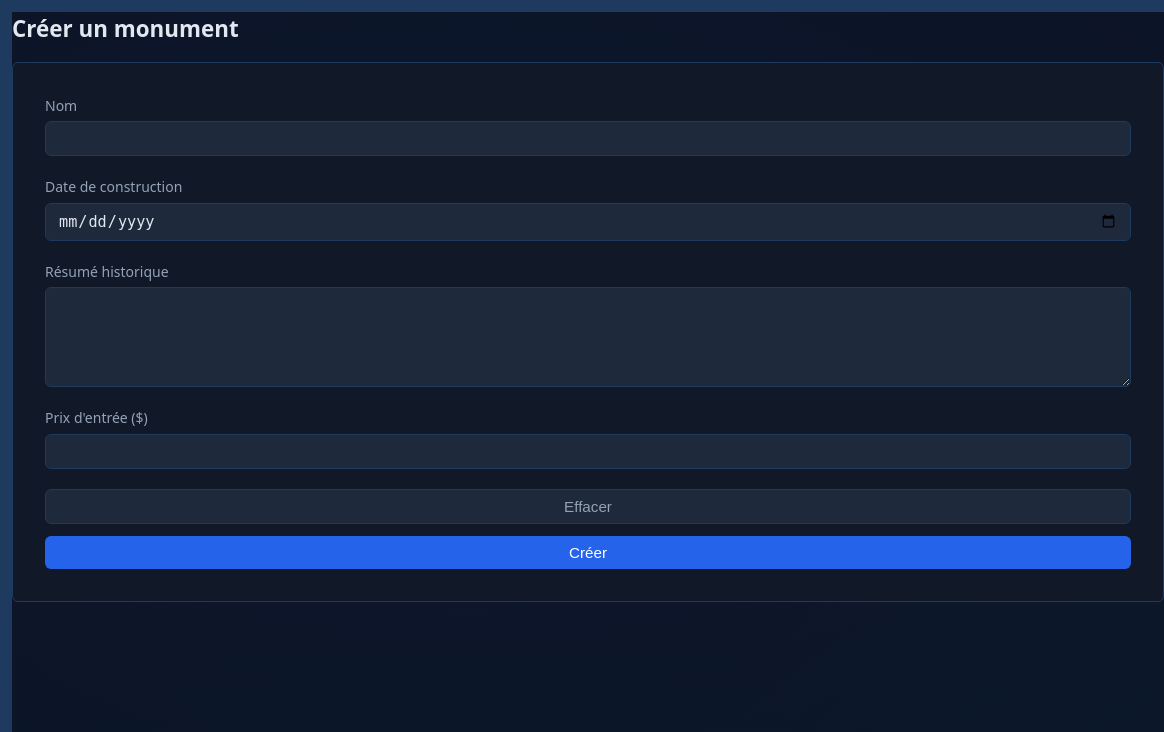
Test: FormulaireMonument › remet le formulaire a zero quand on clique sur Effacer
In the field labelled "Nom": (588, 139) [45,121,1131,156], type "Colisee"
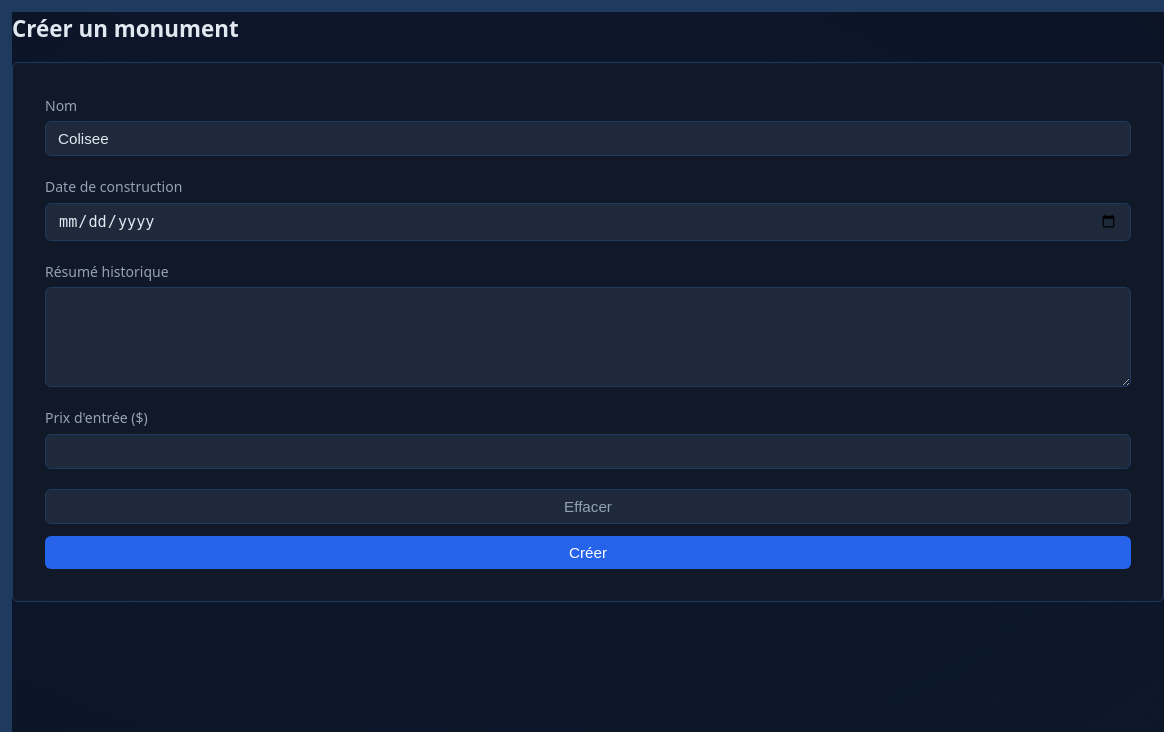
Click the button "Effacer": (588, 506) [45,489,1131,524]
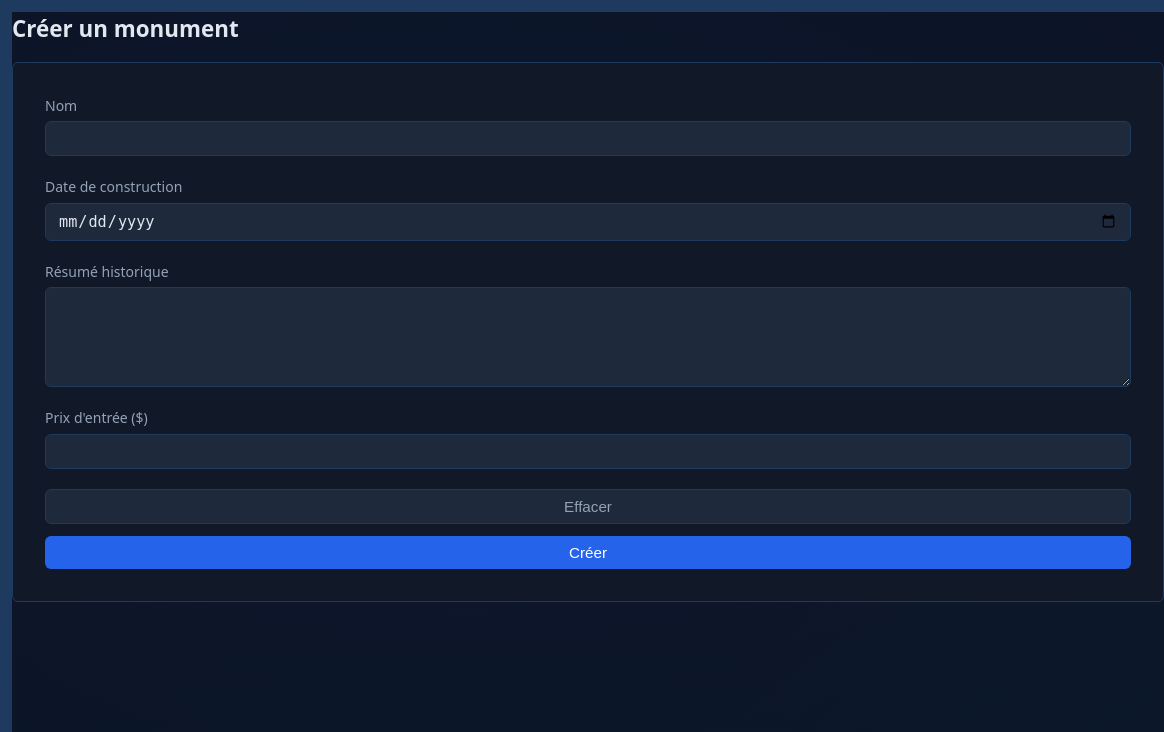
Now the field labelled "Nom" is empty, box [45,121,1131,156]
